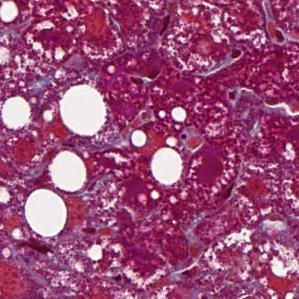steatosis: (59, 83, 111, 137), (22, 190, 67, 240), (53, 148, 90, 193), (150, 145, 185, 187), (2, 88, 32, 133), (132, 126, 146, 148)
